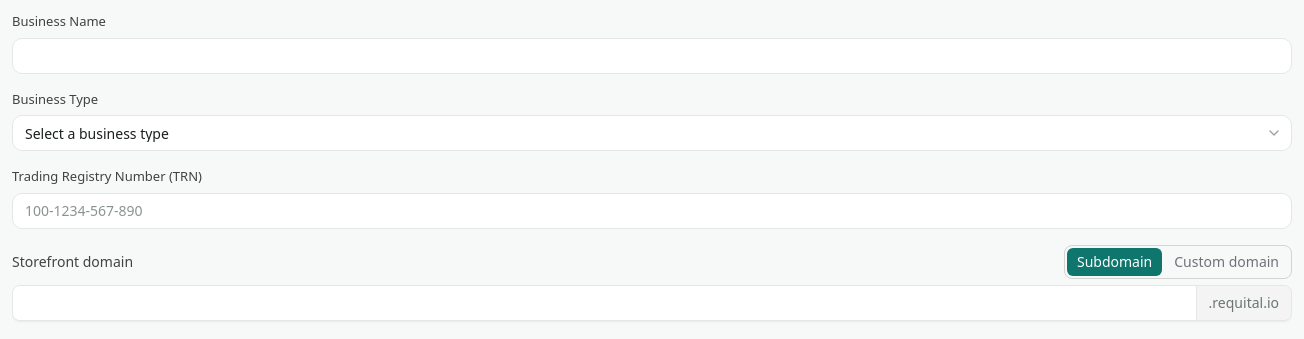
Scenario: AccountSetupStepBusiness — domain picker › auto-fills the subdomain slug from the business name
In the field labelled "Business Name": (652, 56) [12,38,1292,74], type "Acme Flowers & Gifts"
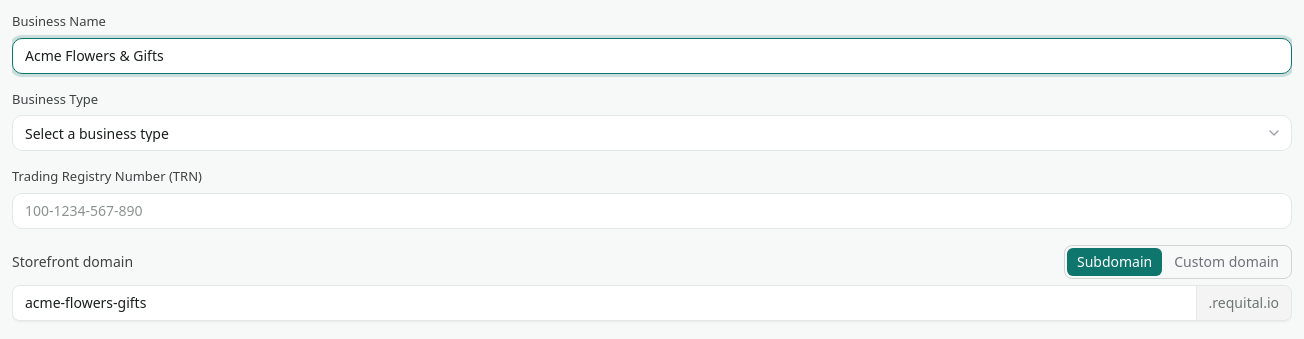
Expected: the field named "Subdomain" holds "acme-flowers-gifts", [13,286,1196,320]
